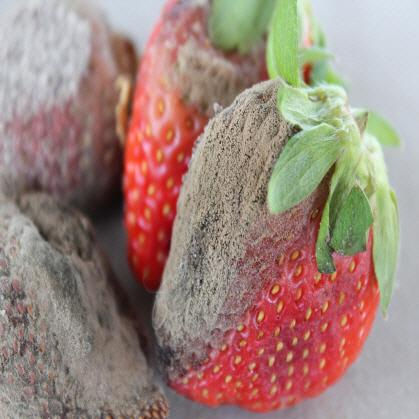Gray Mold: (150, 79, 374, 399), (0, 188, 172, 418), (0, 0, 141, 208), (145, 0, 270, 121)
